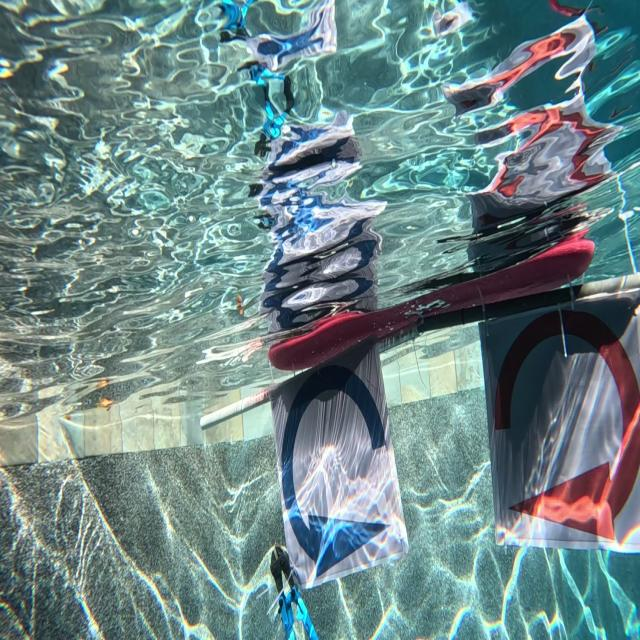blue_side: (262, 341, 407, 581)
red_side: (482, 297, 640, 551)
